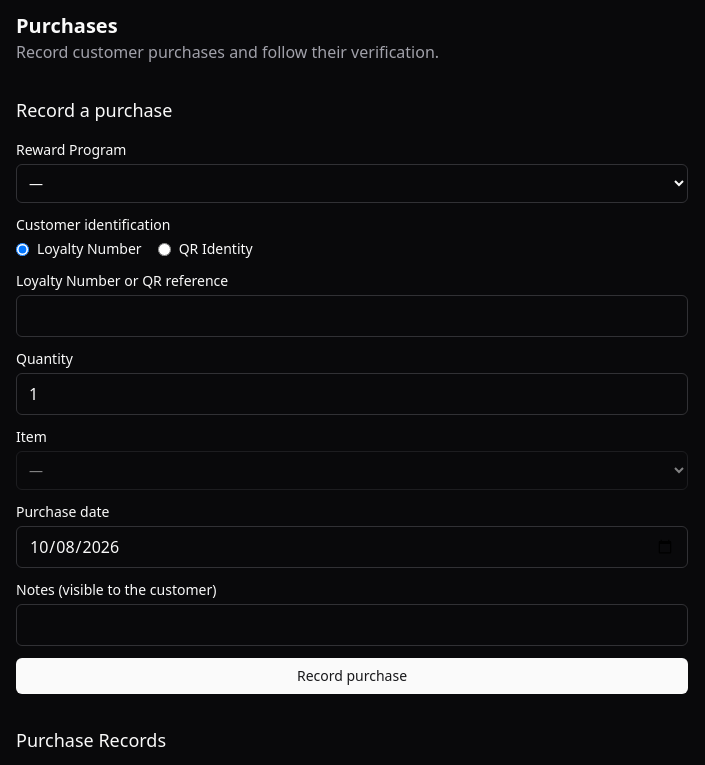
Test: PurchaseRecordsPage › tells the recorder truthfully when Business review is required (no threshold, no waiting-for-customer claim)
The image size is (705, 765).
Type "ABC234" into the field labelled "Loyalty Number or QR reference" at (352, 316), box [16,295,688,337]
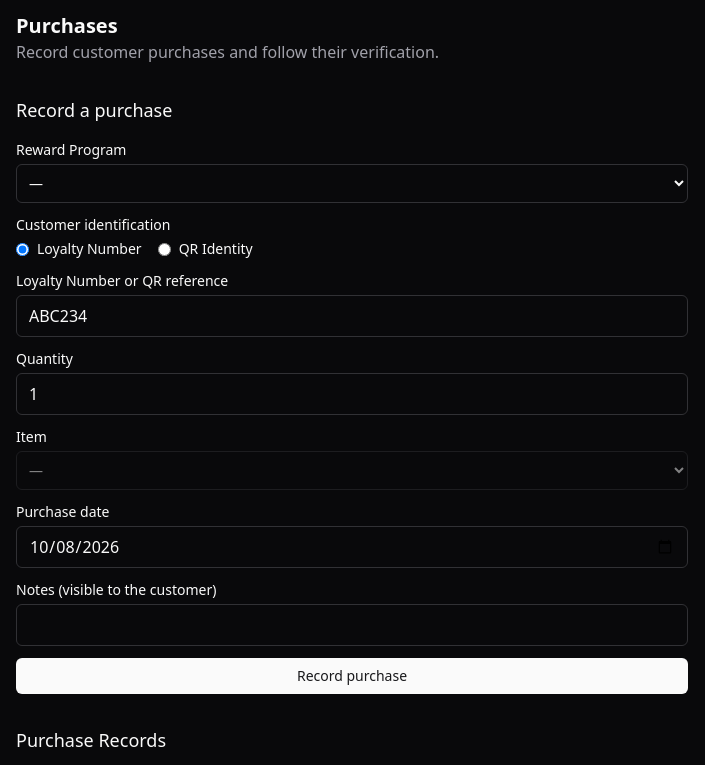
Select "Coffees" in the dropdown labelled "Reward Program" at (352, 184), box [16,164,688,203]
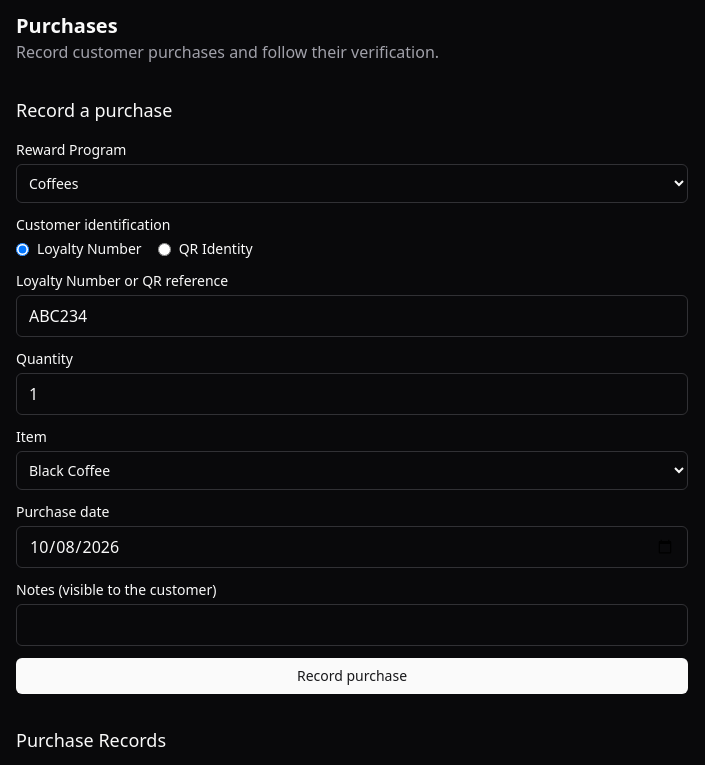
Click the button "Record purchase" at (352, 676), box [16,658,688,694]
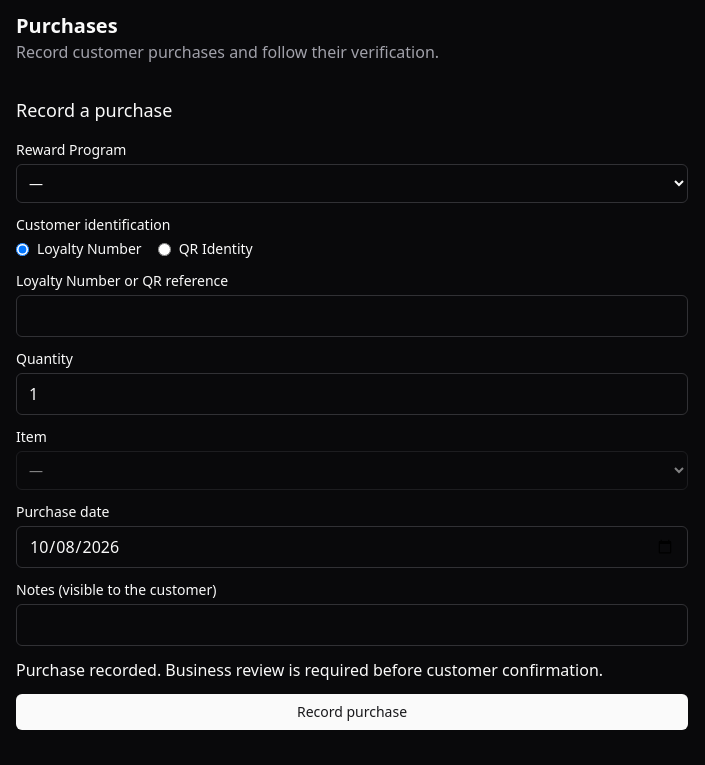
Now the text "Purchase recorded. Business review is required before customer confirmation." is shown, box [16,658,688,682]
